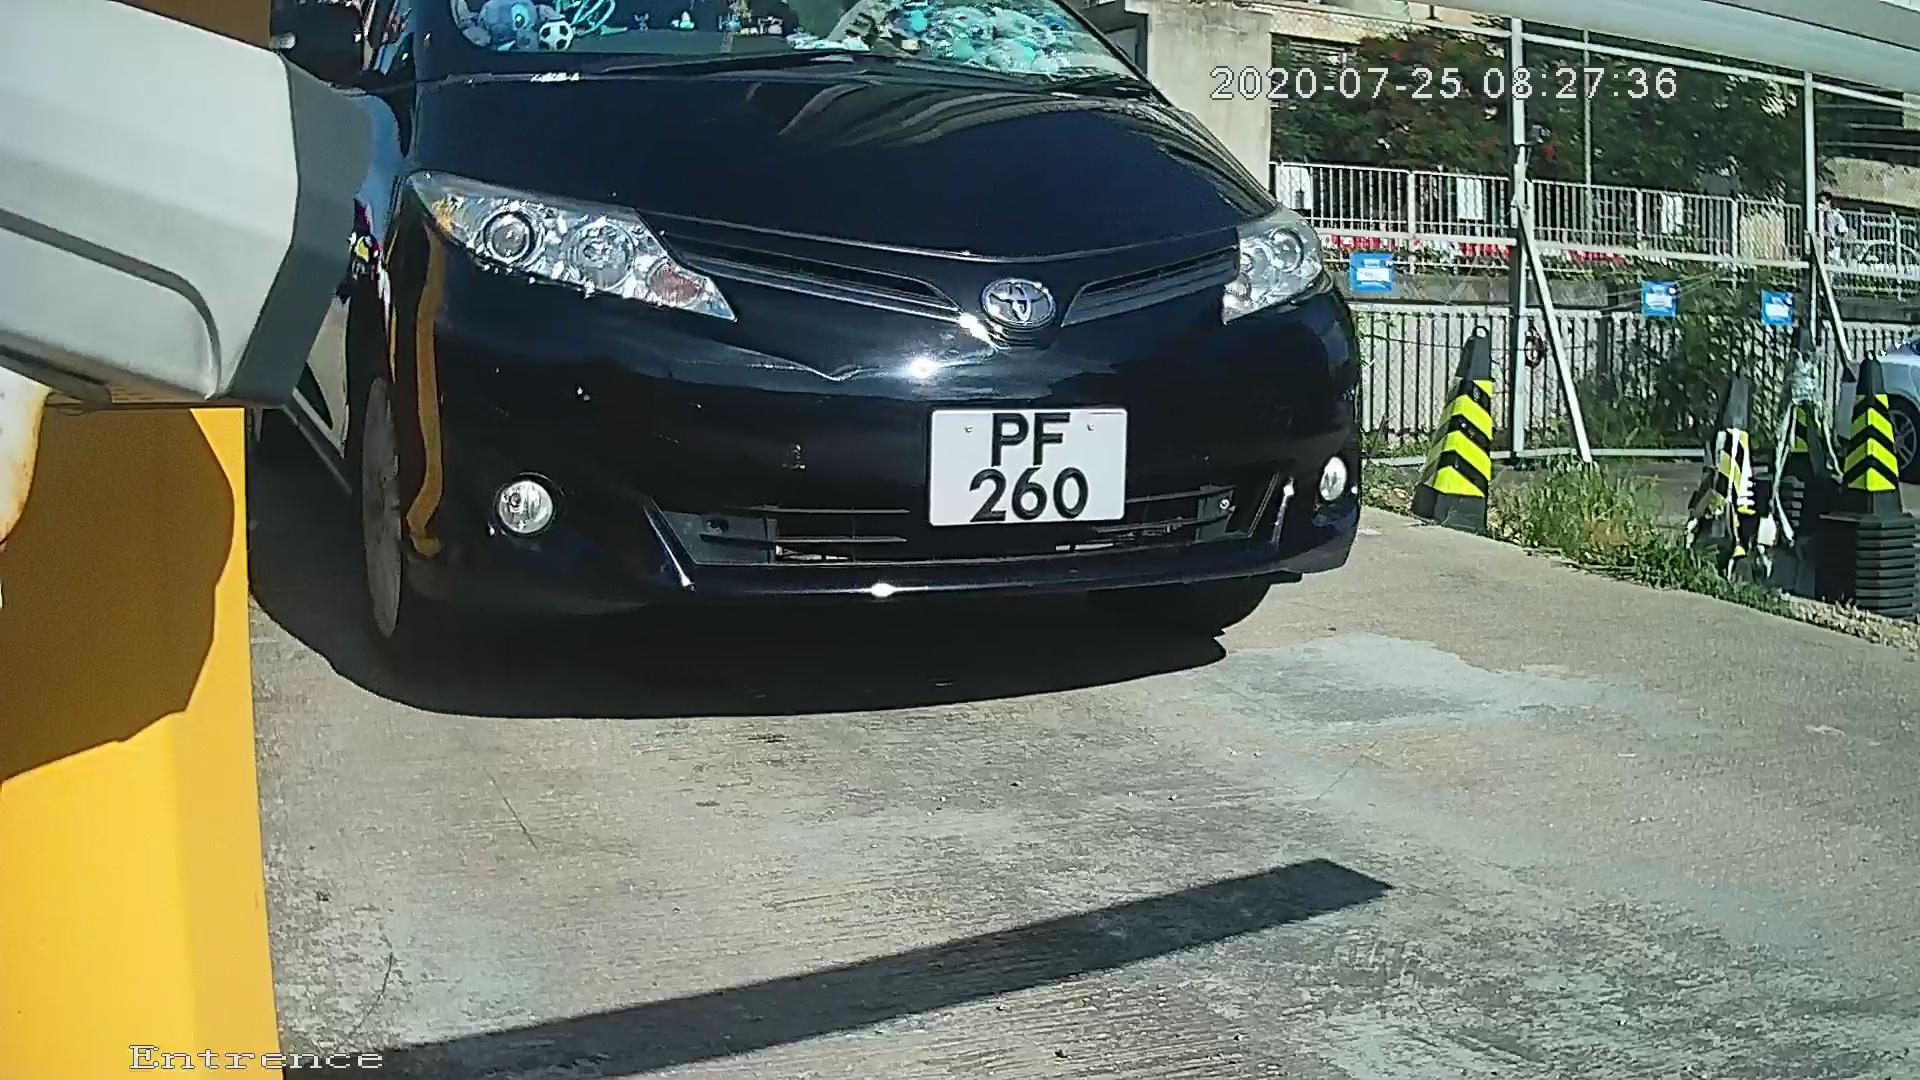License Plate: (909, 396, 1149, 545)
